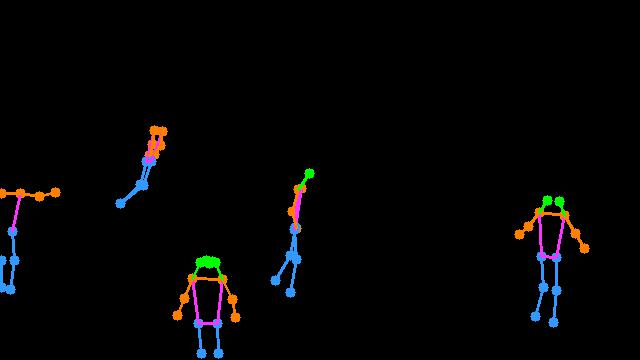normal: (490, 187, 604, 336), (97, 120, 181, 218), (266, 157, 317, 306), (172, 247, 239, 360)
